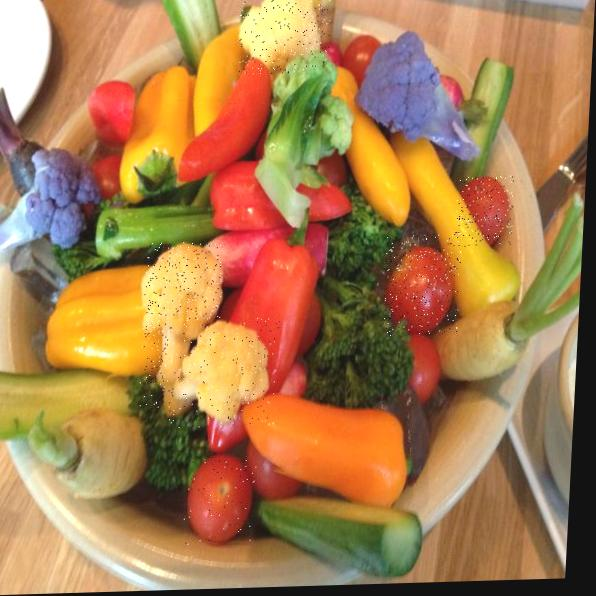Cauliflower: (138, 241, 224, 410), (165, 317, 280, 431), (237, 0, 332, 75)
Tomato: (382, 234, 462, 336), (182, 457, 259, 545), (454, 175, 515, 247)
